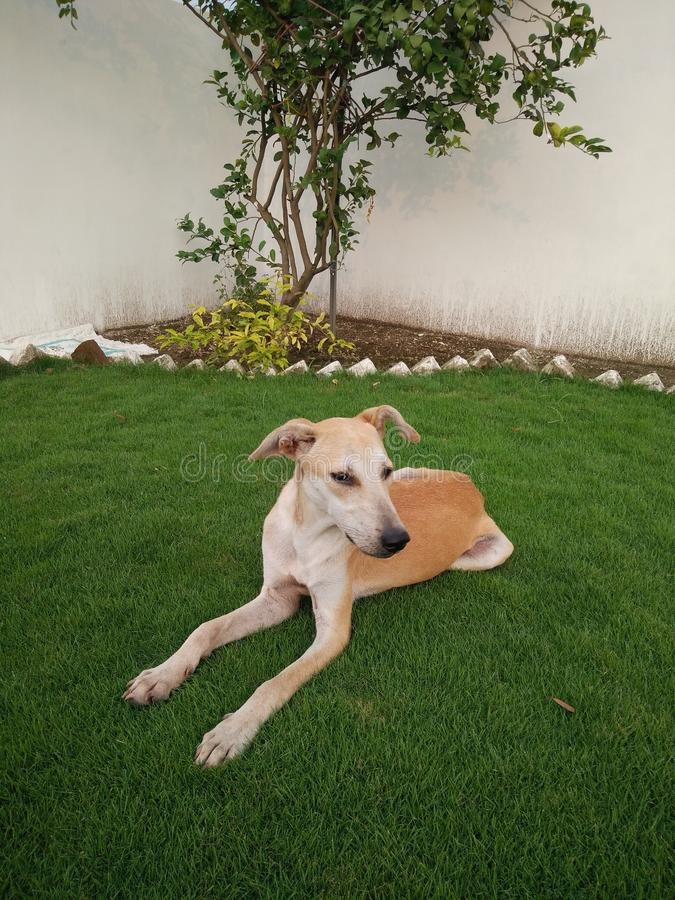nontarget: (122, 376, 578, 816)
